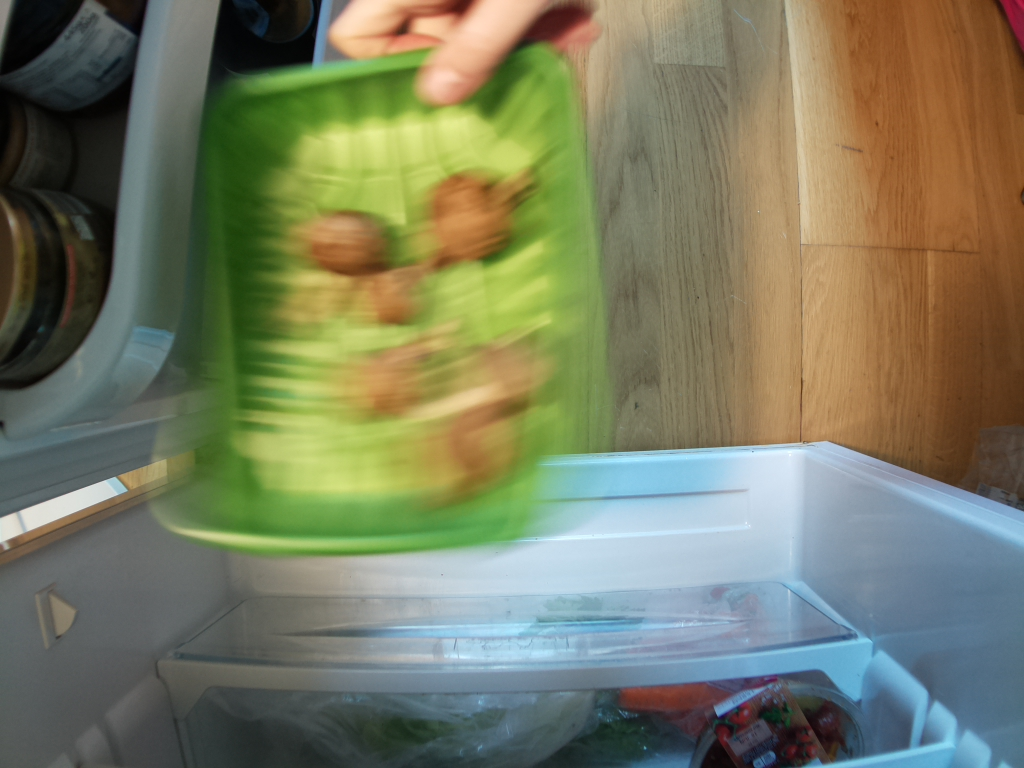mushrooms-bad: (206, 53, 601, 542)
